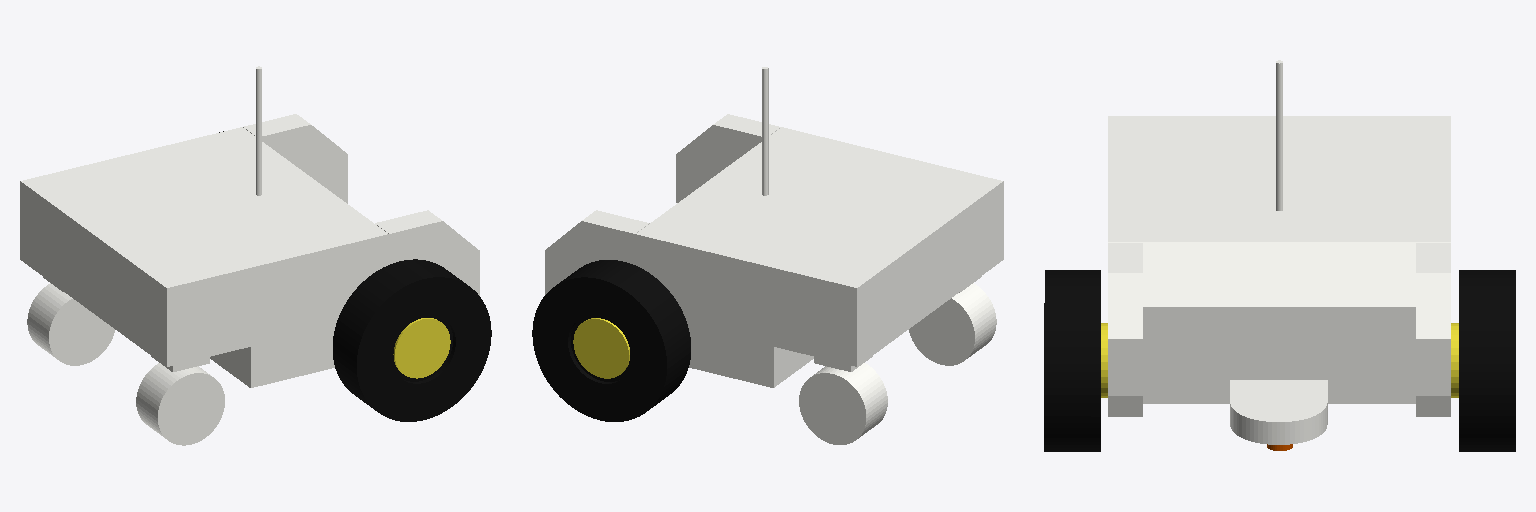
URDF robot description (trooper):
<?xml version="1.0"?>
<robot name="trooper" xmlns:xacro="http://ros.org/wiki/xacro">


<!-- Color materials (Compatible with Rviz but not yet with Gazebo) -->
	<material name="greenish">
		<color rgba="0 0.612 0.306 1"/>
	</material>
	 
	<material name="whiteish">
		<color rgba="1 1 0.98 1"/>
	</material>

	<material name="rubber">
		<color rgba="0.1 0.1 0.1 1"/>
	</material>


<!-- LINKS -->

<!-- CHASSIS -->  
	<link name="trooper__chassis">
    <inertial>
      <mass value="40"/>
      <origin rpy="0  0  0" xyz="0  0  0"/>
      <inertia ixx="1.0" ixy="0.0" ixz="0.0" iyy="1.0" iyz="0.0" izz="1.0"/>
    </inertial>
    <collision>
      <origin rpy="0  0  0" xyz="0    0    0"/>
      <geometry>
        <mesh filename="package://trooper_description/meshes/stl/chassis_no_guardrail.stl" scale="0.01 0.01 0.01"/>
      </geometry>
    </collision>
    <visual>
      <origin rpy="0  0  0" xyz="0    0    0"/>
      <geometry>
        <mesh filename="package://trooper_description/meshes/stl/chassis_no_guardrail.stl" scale="0.01 0.01 0.01"/>
      </geometry>
			<material name="whiteish"/>
    </visual>
  </link>

	<gazebo reference="trooper__chassis">
		<material>Gazebo/White</material>
	</gazebo>




<!-- DRIVE WHEEL -->

  <link name="trooper__left_wheel">
    <inertial>
      <mass value="1"/>
      <origin rpy="0  0  0" xyz="0  0  0"/>
      <inertia ixx="1.0" ixy="0.0" ixz="0.0" iyy="1.0" iyz="0.0" izz="1.0"/>
    </inertial>
    <collision>
      <origin rpy="1.5707  0  0" xyz="0  0  0"/>
      <geometry>
        <cylinder radius="0.15" length="0.1" />
      </geometry>
    </collision>
    <visual>
      <origin rpy="0  0  0" xyz="0  0  0"/>
      <geometry>
        <mesh filename="package://trooper_description/meshes/stl/drive_wheel.stl" scale="0.01 0.01 0.01"/>
      </geometry>
			<material name="rubber"/>
    </visual>
  </link>

	<!-- Set PID coeff for left wheel -->
	<gazebo reference="trooper__left_wheel">
		<material>Gazebo/Grey </material>
		<mu1 value="200"/>
		<mu2 value="100"/>
		<kp value="10000000.0" />
		<kd value="1.0" />
		<!--<maxVel>0.0</maxVel>
		<minDepth>0.001</minDepth>-->
	</gazebo>


  <link name="trooper__right_wheel">
    <inertial>
      <mass value="1"/>
      <origin rpy="0  0  0" xyz="0  0  0"/>
      <inertia ixx="1.0" ixy="0.0" ixz="0.0" iyy="1.0" iyz="0.0" izz="1.0"/>
    </inertial>
    <collision>
      <origin rpy="1.5707  0  0" xyz="0  0  0"/>
      <geometry>
        <cylinder radius="0.15" length="0.1" />
      </geometry>
    </collision>
    <visual>
      <origin rpy="0  0  0" xyz="0  0  0"/>
      <geometry>
        <mesh filename="package://trooper_description/meshes/stl/drive_wheel.stl" scale="0.01 0.01 0.01"/>
      </geometry>
			<material name="rubber"/>
    </visual>
  </link>

	<!-- Set PID coeff for right wheel -->
	<gazebo reference="trooper__right_wheel">
		<material>Gazebo/Grey </material>
		<mu1 value="200"/>
		<mu2 value="100"/>
		<kp value="10000000.0" />
		<kd value="1.0" />
		<!--<maxVel>0.0</maxVel>
		<minDepth>0.001</minDepth>-->
	</gazebo>


  <link name="trooper__rim">
    <origin rpy="0.0 0.0 0.0" xyz="0.0 0.0 0.0" />
    <visual>
      <geometry>
        <cylinder radius="0.06" length="0.74" />
      </geometry>
    </visual>
  </link>

	<gazebo reference="trooper__rim">
		<material>Gazebo/Red</material>
	</gazebo>





<!-- magasin -->
  <link name="trooper__magasin">
    <inertial>
      <mass value="3"/>
      <origin rpy="0  0  0" xyz="0  0  0"/>
      <inertia ixx="1.0" ixy="0.0" ixz="0.0" iyy="1.0" iyz="0.0" izz="1.0"/>
    </inertial>
    <collision>
      <origin rpy="0  0  0" xyz="0.09  0    0"/>
      <geometry>
        <mesh filename="package://trooper_description/meshes/stl/magasin_5x4L.stl" scale="0.01 0.01 0.01"/>
      </geometry>
    </collision>
    <visual>
      <origin rpy="0  0  0" xyz="0.09  0    0"/>
      <geometry>
        <mesh filename="package://trooper_description/meshes/stl/magasin_5x4L.stl" scale="0.01 0.01 0.01"/>
      </geometry>
			<material name="greenish"/>
    </visual>
  </link>

	<gazebo reference="trooper__magasin">
		<material>Gazebo/Green</material>
	</gazebo>




<!-- SENSORS -->

	<link name="hokuyo_link">
		<collision>
		  <origin xyz="0 0 0" rpy="0 0 0"/>
		  <geometry>
		    <box size="0.05 0.05 0.041"/>
		  </geometry>
		</collision>
		<visual>
		  <origin xyz="0 0 0" rpy="0 0 0"/>
		  <geometry>
		    <cylinder length="0.029" radius="0.021"/>
		  </geometry>
		</visual>
		<inertial>
		  <mass value="0.1" />
		  <origin xyz="0 0 0" rpy="0 0 0"/>
		  <inertia ixx="1" ixy="0" ixz="0" iyy="1" iyz="0" izz="1" />
		</inertial>
	</link>


<link name="imu_link">
  <inertial>
    <mass value="0.001"/>
    <origin rpy="0 0 0" xyz="0 0 0"/>
    <inertia ixx="0.0001" ixy="0" ixz="0" iyy="0.000001" iyz="0" izz="0.0001"/>
  </inertial>
  <visual>
    <origin rpy="0 0 0" xyz="0 0 0"/>
    <geometry>
      <box size="0.001 0.001 0.001"/>
    </geometry>
  </visual>
  <collision>
    <origin rpy="0 0 0" xyz="0 0 0"/>
    <geometry>
      <box size=".001 .001 .001"/>
    </geometry>
  </collision>
</link>





<!-- JOINTS -->  

	<joint name="trooper__left_wheel_to_chassis" type="continuous">
    <parent link="trooper__chassis"/>
    <child link="trooper__left_wheel"/>
    <origin rpy="1.5707  1.5707  1.5707" xyz="0.14  0.33  0.15"/>
    <axis xyz="0   1   0"/>
    <!--<limit effort="50" velocity="100"/>-->
		<dynamics damping="0.7" friction="100" />
  </joint>

 	<joint name="trooper__right_wheel_to_chassis" type="continuous">
    <parent link="trooper__chassis"/>
    <child link="trooper__right_wheel"/>
    <origin rpy="1.5707 -1.5707  1.5707" xyz="0.14 -0.33  0.15"/>
    <axis xyz="0  -1  0"/>
    <!--<limit effort="50" velocity="100"/>-->
		<dynamics damping="0.7" friction="100" />
  </joint>


	<joint name="trooper__rim_to_chassis" type="fixed">
    <parent link="trooper__chassis"/>
    <child link="trooper__rim"/>
    <origin rpy="1.5707 0 0" xyz="0.14 0 0.15"/>
    <axis xyz="0 0 0"/>
  </joint>

	<joint name="trooper__magasin_to_chassis" type="continuous">
    <parent link="trooper__chassis"/>
    <child link="trooper__magasin"/>
    <origin rpy="0  0  1.5707" xyz="0  0  0.55"/>
    <axis xyz="0  0  1"/>
    <!--<limit effort="10" velocity="100"/>-->
  </joint>

  <property name="hokuyo_link" value="0.15" />
  <joint name="hokuyo_joint" type="fixed">
    <axis xyz="0 1 0" />
    <origin xyz="0.28 0 0.08" rpy="0 0 0"/>
    <parent link="trooper__chassis"/>
    <child link="hokuyo_link"/>
  </joint>


  <joint name="imu_joint" type="fixed">
    <axis xyz="1 0 0"/> <!-- 0 1 0 -->
    <origin xyz="0 0 0.19"/>
    <parent link="trooper__chassis"/>
    <child link="imu_link"/>
  </joint>





<!--  GAZEBO plugin for Laser -->	
  <gazebo reference="hokuyo_link">
    <sensor type="ray" name="head_hokuyo_sensor">
      <pose>0 0 0 0 0 0</pose>
      <visualize>true</visualize>
      <update_rate>20</update_rate>
      <ray>
        <scan>
          <horizontal>
            <samples>61</samples>
            <resolution>1</resolution>
            <min_angle>-1.5707</min_angle>
            <max_angle>1.5707</max_angle>
          </horizontal>
        </scan>
        <range>
          <min>0.10</min>
          <max>5.0</max>
          <resolution>0.01</resolution>
        </range>
        <noise>
          <type>gaussian</type>
          <!-- Noise parameters based on published spec for Hokuyo laser
               achieving "+-30mm" accuracy at range < 10m.  A mean of 0.0m and
               stddev of 0.01m will put 99.7% of samples within 0.03m of the true
               reading. -->
          <mean>0.0</mean>
          <stddev>0.01</stddev>
        </noise>
      </ray>
      <plugin name="gazebo_ros_head_hokuyo_controller" filename="libgazebo_ros_laser.so">
        <topicName>/scan</topicName>
        <frameName>hokuyo_link</frameName>
      </plugin>
    </sensor>
  </gazebo>




<!--  GAZEBO plugin for IMU -->

  <gazebo reference="imu_link">
    <gravity>true</gravity>
    <sensor name="imu_sensor" type="imu">
      <always_on>true</always_on>
      <update_rate>100</update_rate>
      <visualize>true</visualize>
      <topic>__default_topic__</topic>
      <plugin filename="libgazebo_ros_imu_sensor.so" name="imu_plugin">
        <topicName>imu</topicName>
        <bodyName>imu_link</bodyName>
        <updateRateHZ>10.0</updateRateHZ>
        <gaussianNoise>0.0</gaussianNoise>
        <xyzOffset>0 0 0</xyzOffset>
        <rpyOffset>0 0 0</rpyOffset>
        <frameName>imu_link</frameName>
      </plugin>
      <pose>0 0 0 0 0 0</pose>
    </sensor>
  </gazebo>

<!--
	<gazebo>
		<controller:gazebo_ros_imu name="imu_controller" plugin="libgazebo_ros_imu.so">
		  <alwaysOn>true</alwaysOn>
		  <updateRate>50.0</updateRate> 
		  <bodyName>imu_link</bodyName>
		  <topicName>imu_data</topicName>
		  <gaussianNoise>2.89e-08</gaussianNoise>
		  <xyzOffsets>0 0 0</xyzOffsets>
		  <rpyOffsets>0 0 0</rpyOffsets>
		  <interface:position name="imu_position"/>
		</controller:gazebo_ros_imu>
	</gazebo>
-->






<!--  GAZEBO plugin for ROS Control -->
	<gazebo>
		<plugin name="gazebo_ros_control" filename="libgazebo_ros_control.so">
		<robotNamespace>/</robotNamespace>
		</plugin>
	</gazebo>



<!-- TRANSMISSIONS -->
  <transmission name="trooper__magasin_to_chassis_trans">
    <type>transmission_interface/SimpleTransmission</type>
    <actuator name="trooper__magasin_state">
      <mechanicalReduction>1</mechanicalReduction>
    </actuator>
    <joint name="trooper__magasin_to_chassis">
      <hardwareInterface>PositionJointInterface</hardwareInterface>
    </joint>
  </transmission>

  <transmission name="trooper__left_wheel_to_chassis_trans">
    <type>transmission_interface/SimpleTransmission</type>
    <actuator name="trooper__left_wheel_state">
      <mechanicalReduction>1</mechanicalReduction>
    </actuator>
    <joint name="trooper__left_wheel_to_chassis">
      <hardwareInterface>VelocityJointInterface</hardwareInterface>
    </joint>
  </transmission>

  <transmission name="trooper__right_wheel_to_chassis_trans">
    <type>transmission_interface/SimpleTransmission</type>
    <actuator name="trooper__right_wheel_state">
      <mechanicalReduction>1</mechanicalReduction>
    </actuator>
    <joint name="trooper__right_wheel_to_chassis">
      <hardwareInterface>VelocityJointInterface</hardwareInterface>
    </joint>
  </transmission>




</robot>

--- What the picture shows (computed from the rendered views, not written in the file) ---
The picture shows the robot from 3 angles, left to right: view 1: azimuth 30°, elevation 25°; view 2: azimuth 150°, elevation 25°; view 3: azimuth 270°, elevation 25°; orthographic projection.
Model trooper with 7 links and 6 joints (3 continuous, 3 fixed), rooted at trooper__chassis, posed all joints at 0.
Visible links, largest first — view 1: trooper__chassis, trooper__right_wheel, trooper__rim; view 2: trooper__chassis, trooper__left_wheel, trooper__rim; view 3: trooper__chassis, trooper__left_wheel, trooper__right_wheel, trooper__rim.
Link boxes in pixels (x1,y1,x2,y2): trooper__chassis: [20, 66, 479, 445]; trooper__right_wheel: [333, 259, 491, 421]; trooper__rim: [393, 318, 450, 378]; trooper__chassis: [545, 67, 1003, 444]; trooper__left_wheel: [532, 260, 690, 421]; trooper__rim: [573, 318, 629, 378]; trooper__chassis: [1108, 60, 1450, 444]; trooper__left_wheel: [1459, 270, 1515, 451]; trooper__right_wheel: [1044, 270, 1100, 451]; trooper__rim: [1101, 323, 1458, 397].
Bounding box of the posed robot: 0.7175 × 0.75 × 0.6094 m (x, y, z).
Meshes: 3 distinct files referenced, 3 mesh visuals loaded (2 binary STL); not drawn: 1 (reference not matched to a file when rendering).
